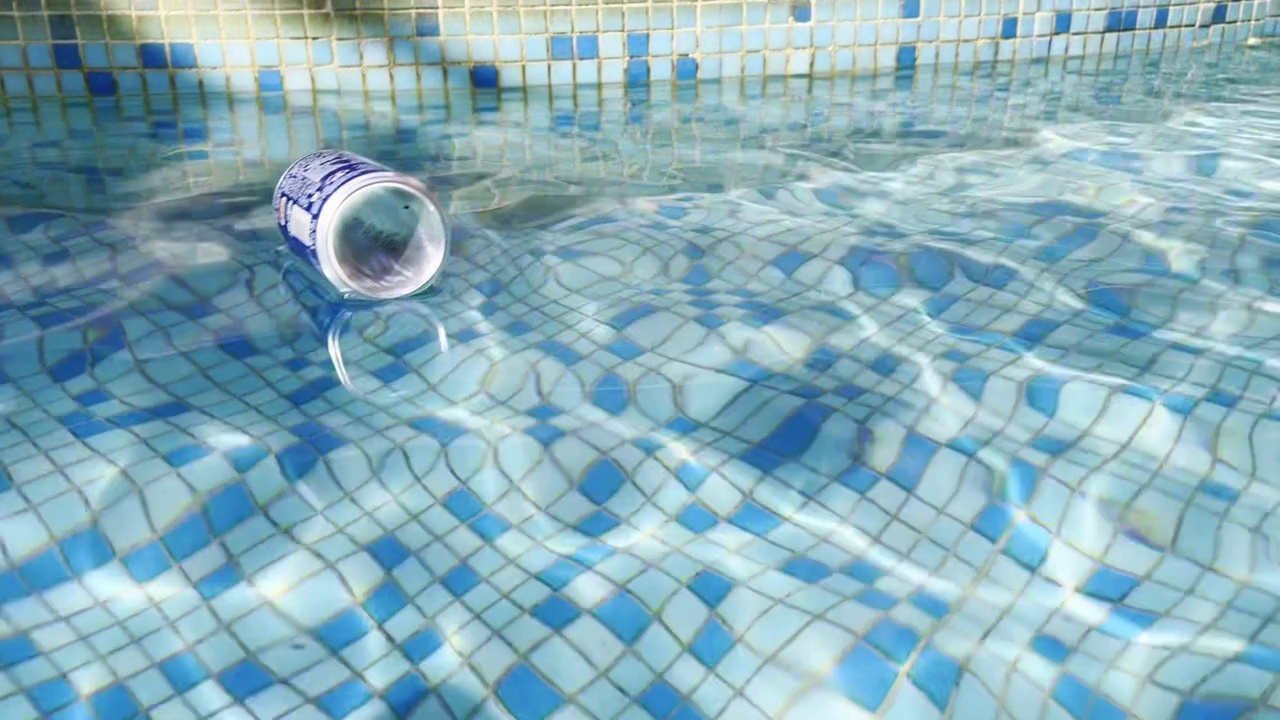debris: (247, 145, 451, 314)
